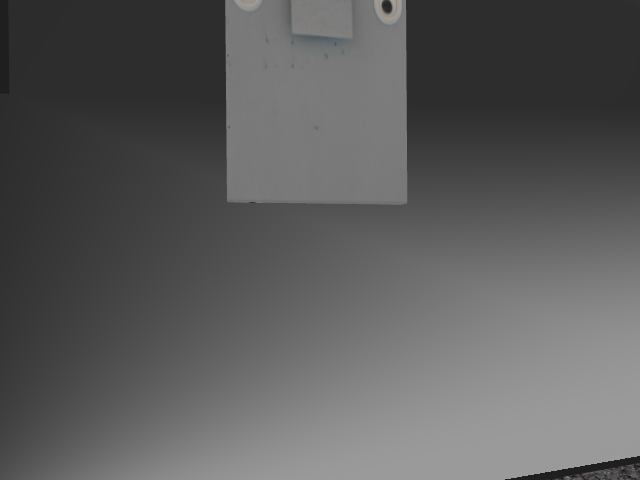facade: (228, 0, 403, 43)
